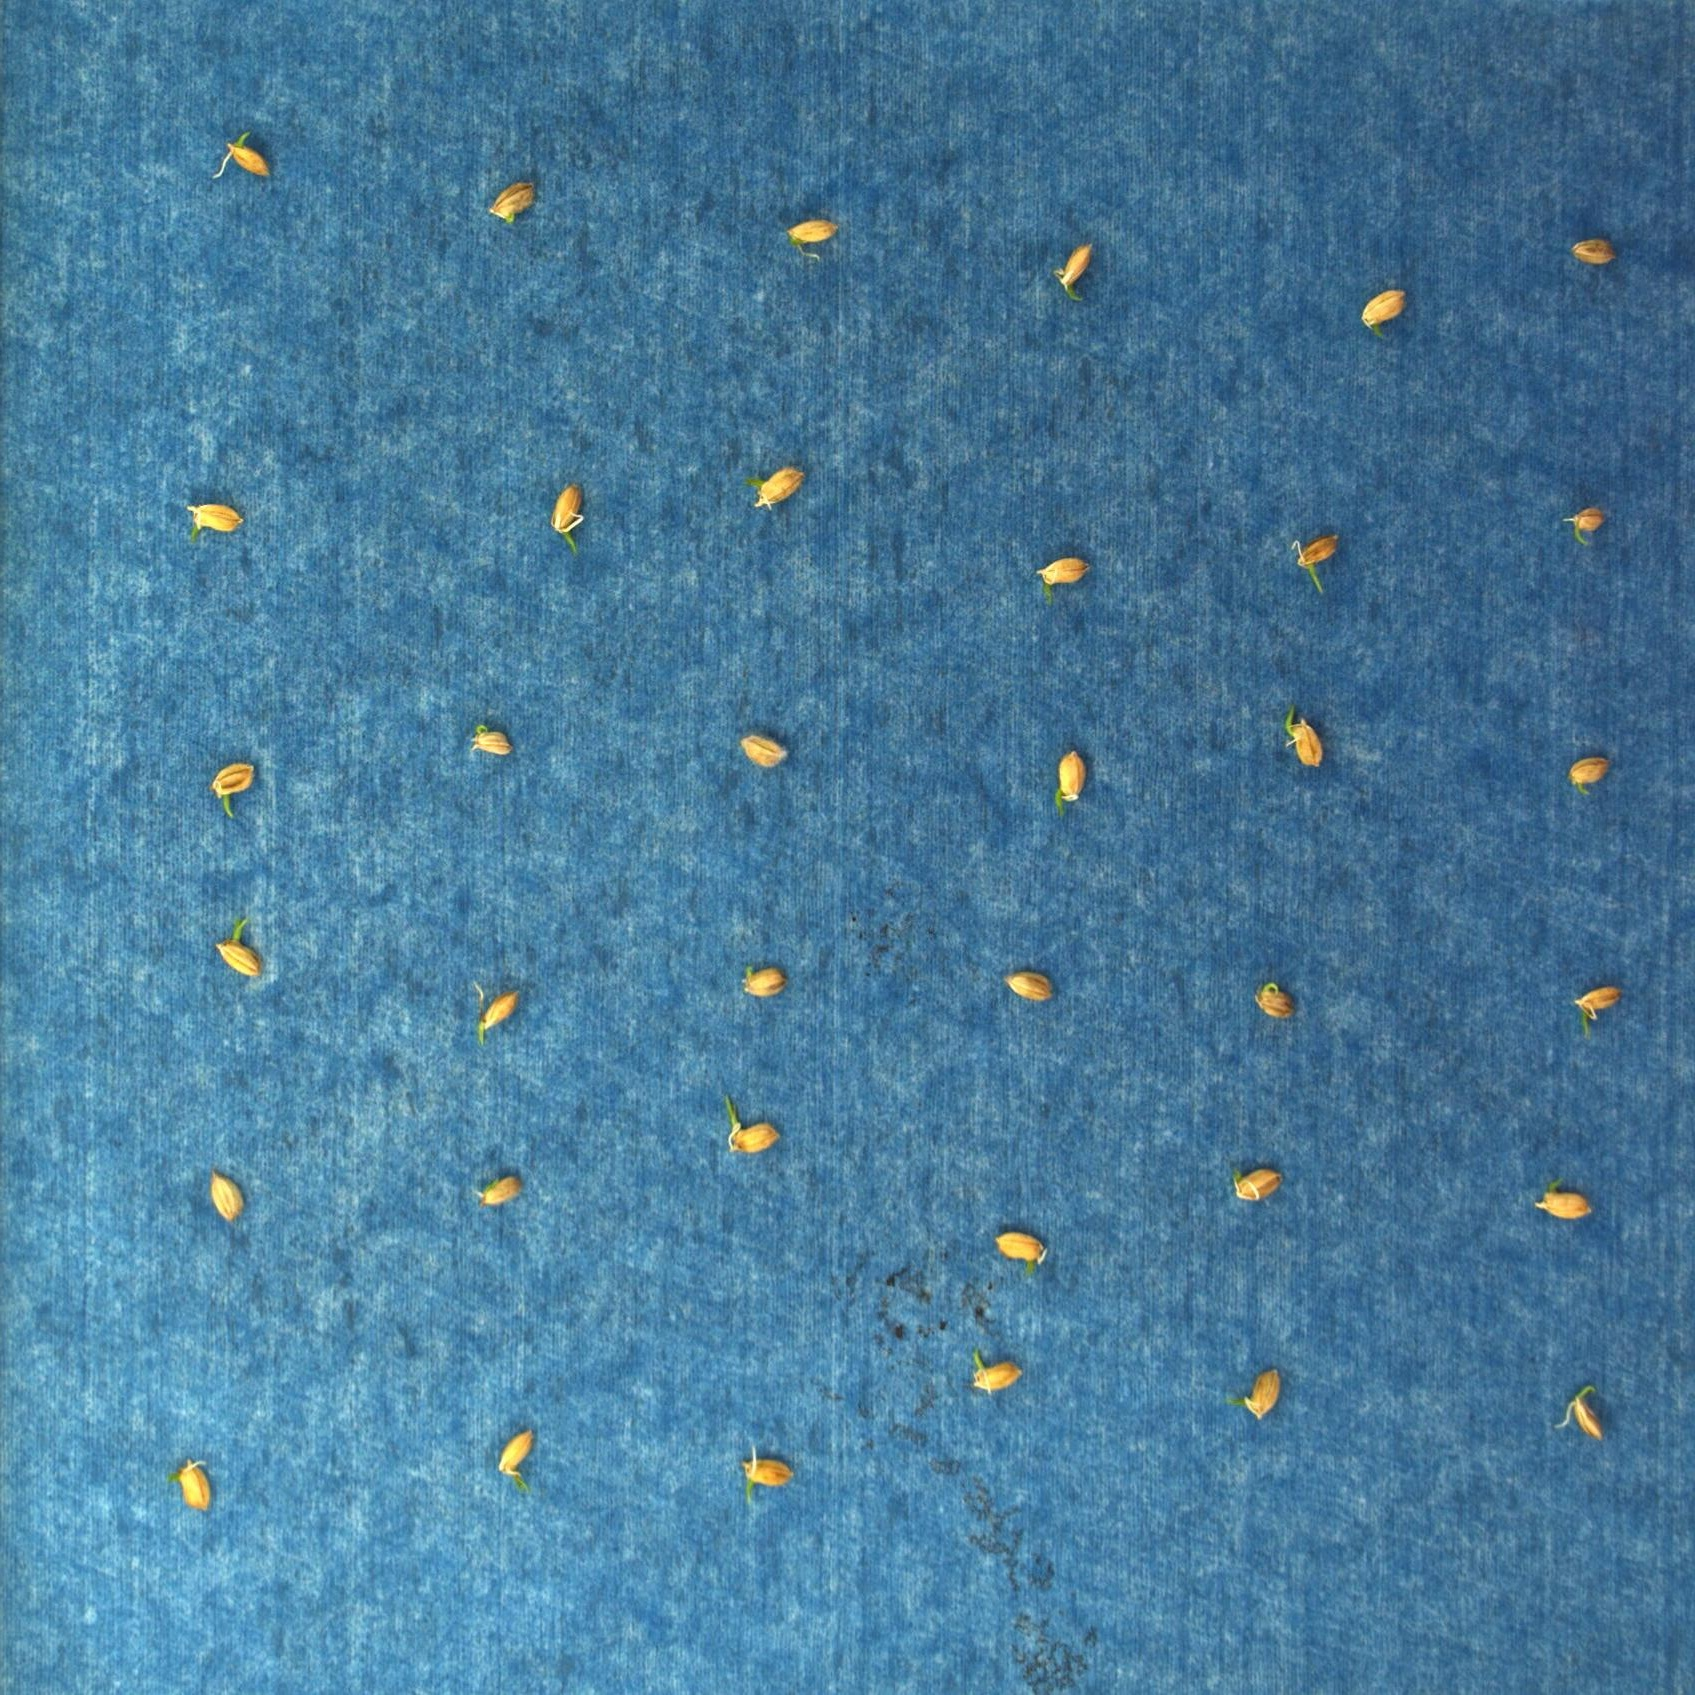not sprout: (1220, 1154, 1297, 1221), (211, 123, 286, 190), (733, 458, 817, 514), (206, 752, 269, 825), (160, 1449, 226, 1518), (1226, 1357, 1286, 1430), (1558, 980, 1624, 1043), (466, 985, 535, 1043), (1358, 281, 1422, 343), (486, 1421, 540, 1494), (993, 1216, 1058, 1276), (465, 1169, 534, 1225), (164, 492, 244, 540), (1285, 696, 1333, 776), (1047, 741, 1098, 816), (1024, 545, 1100, 594), (1551, 495, 1615, 553), (477, 178, 544, 229), (961, 1348, 1025, 1399), (1237, 981, 1304, 1029), (735, 723, 791, 780), (202, 1169, 257, 1227), (727, 958, 787, 1009), (1536, 1178, 1590, 1232), (469, 712, 515, 770), (997, 965, 1055, 1010), (1564, 225, 1617, 272), (1567, 749, 1611, 801), (786, 212, 840, 254)
sprout: (713, 1089, 790, 1167), (1040, 236, 1103, 329), (1278, 520, 1347, 603), (540, 472, 598, 561), (200, 912, 271, 981), (727, 1441, 797, 1505), (1547, 1381, 1618, 1443)
